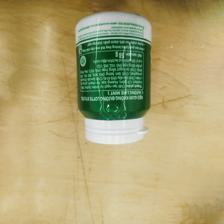Xylitol_green: (75, 11, 153, 143)
